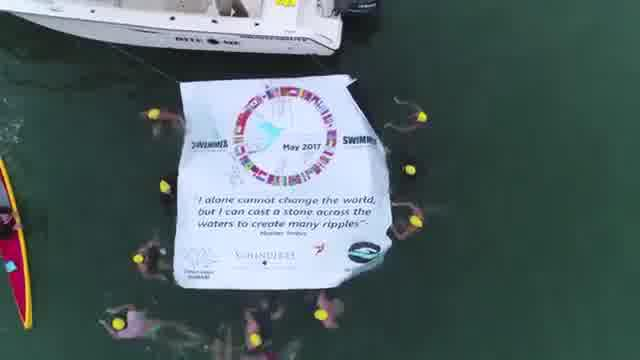human: (96, 300, 194, 350), (378, 92, 436, 143), (383, 196, 428, 244), (127, 240, 176, 284), (134, 106, 192, 142), (309, 291, 354, 331)
